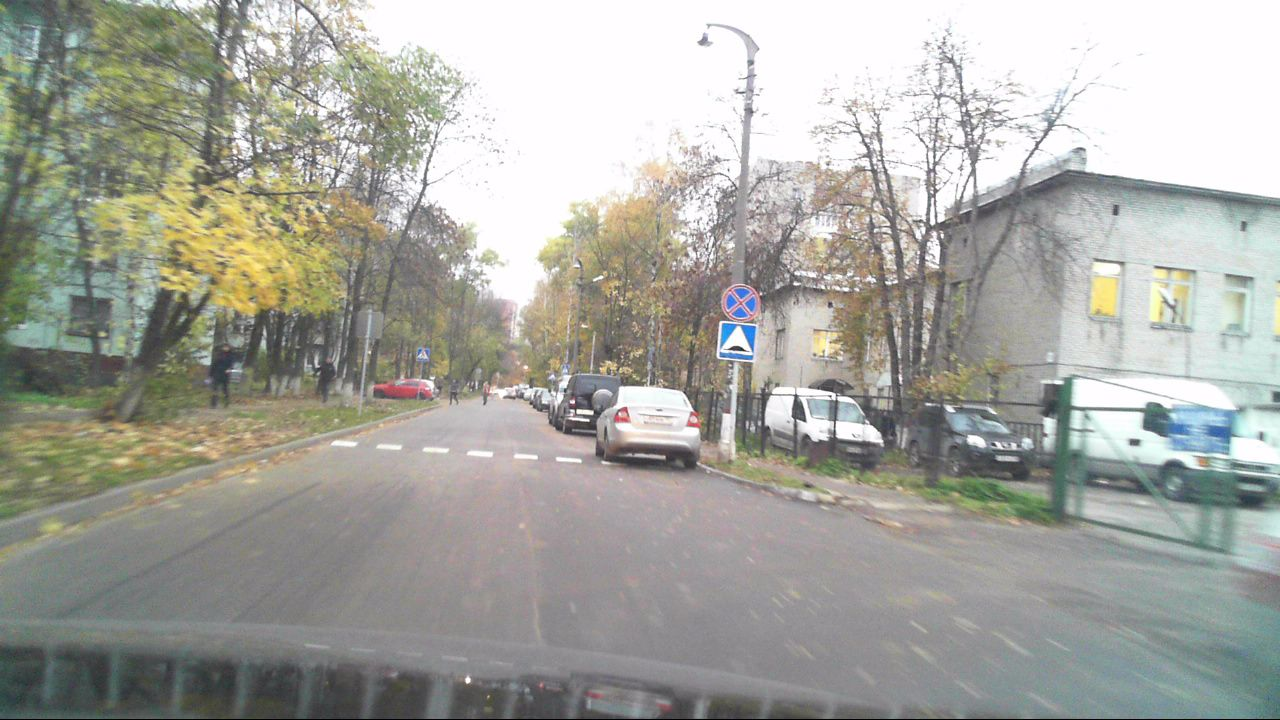No Parking: (721, 284, 759, 322)
